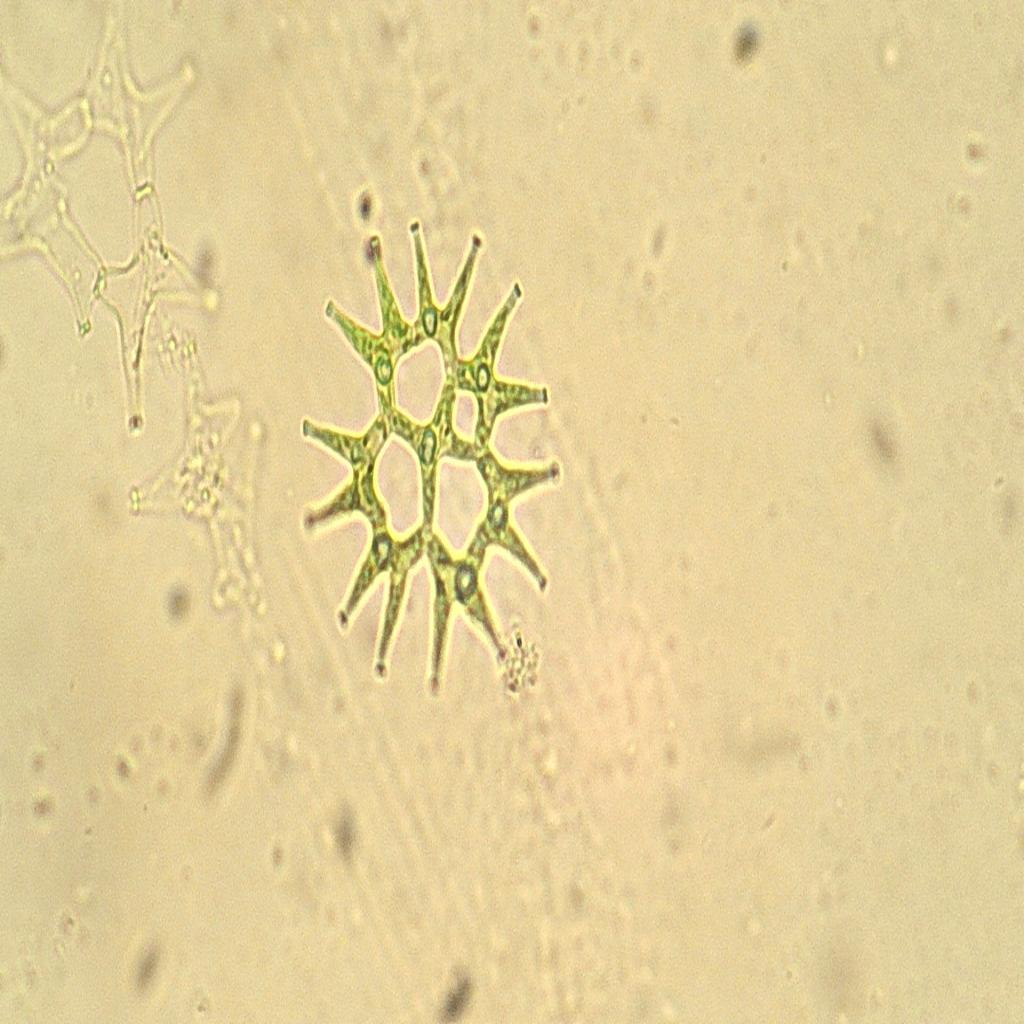Pediastrum_CTH: (281, 192, 592, 730)
